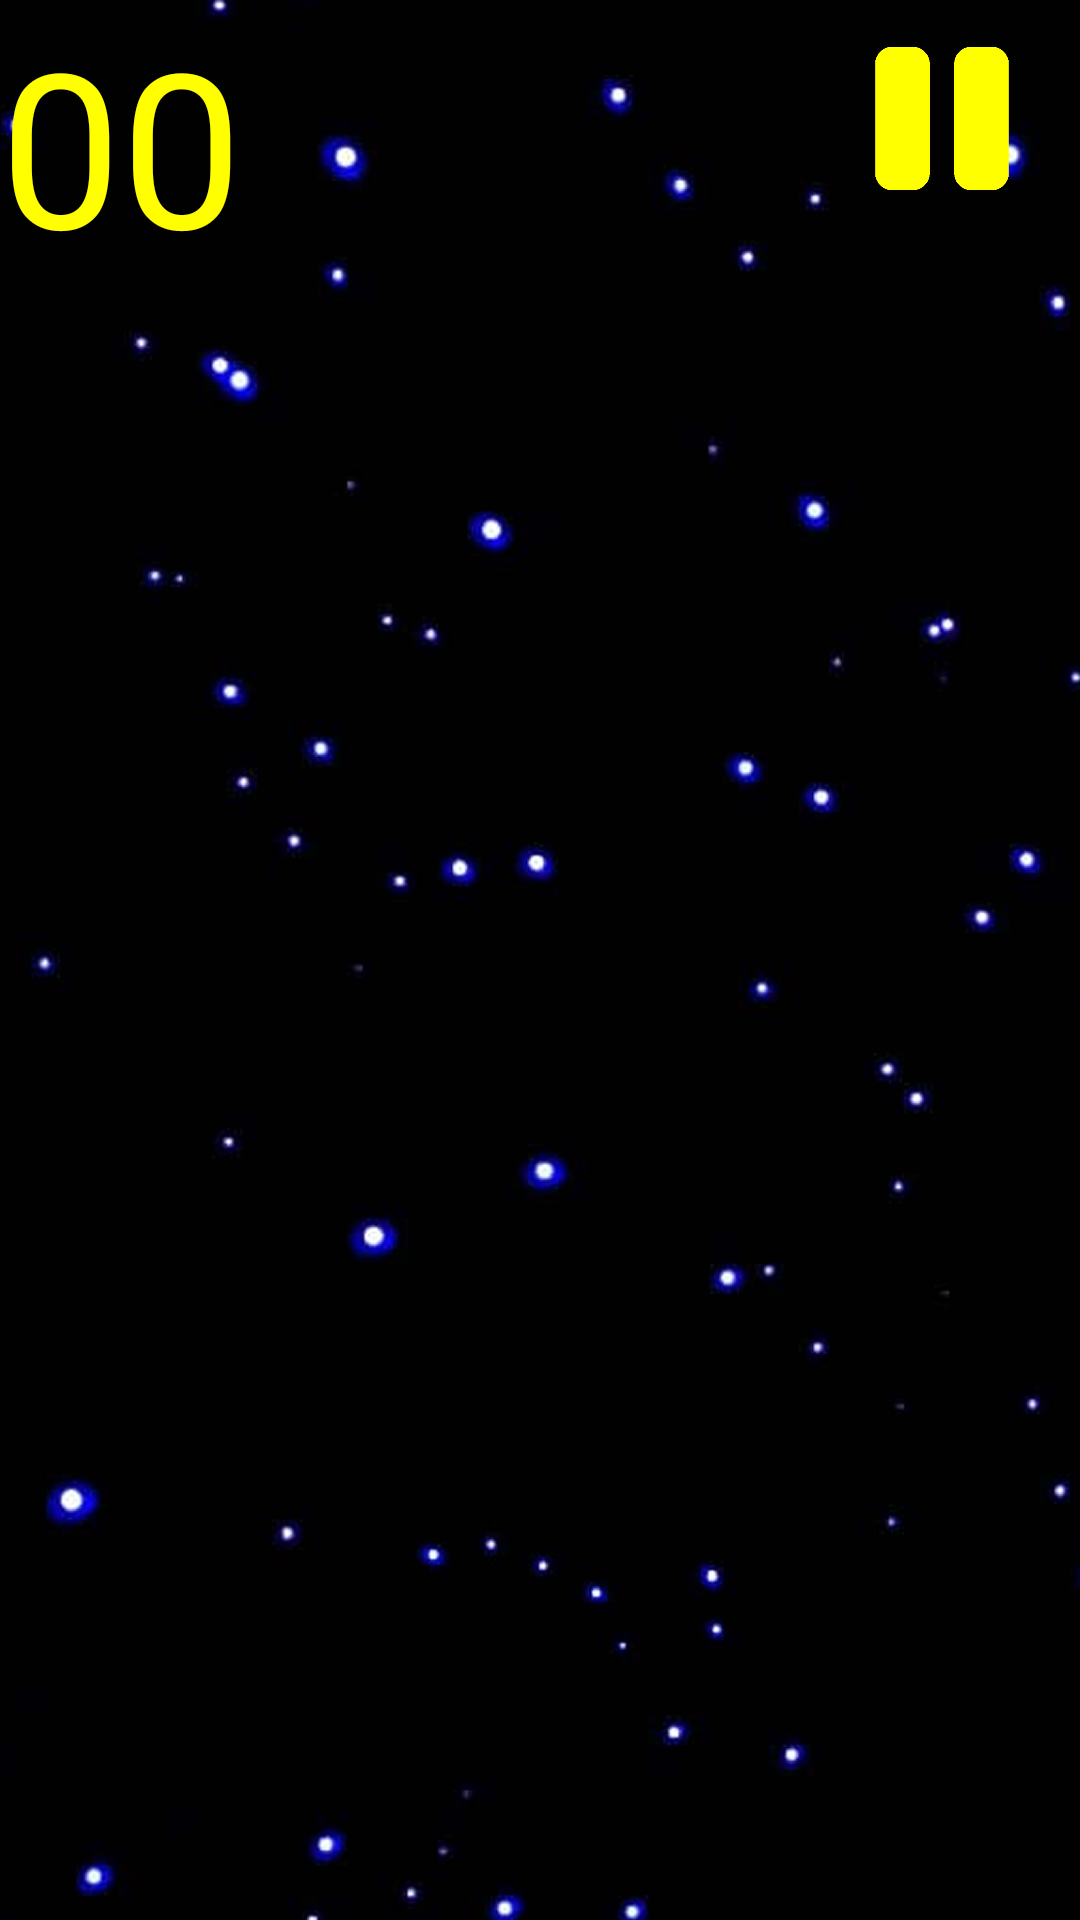

Icons on this 1080 x 1920 Android screen, each with the point to tap as (x,y):
pause: (917,129)
